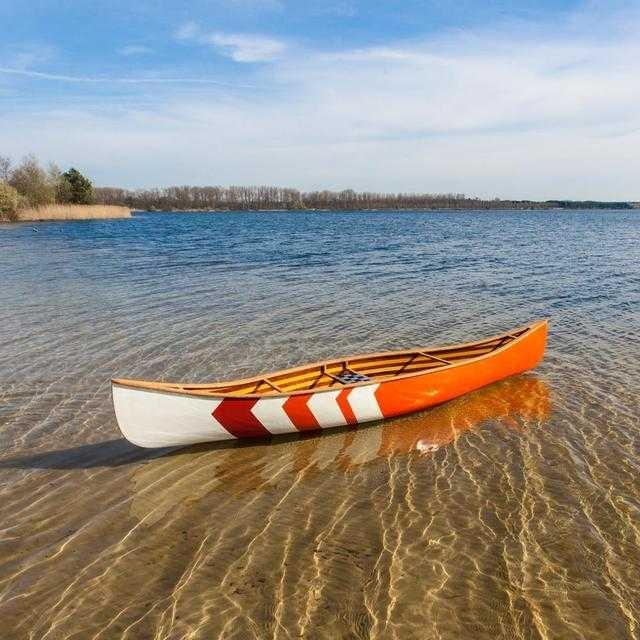kayak: (111, 319, 550, 448)
